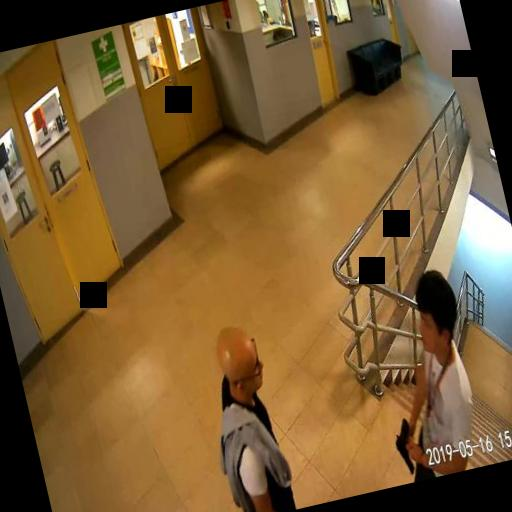Handgun: (390, 416, 418, 474)
